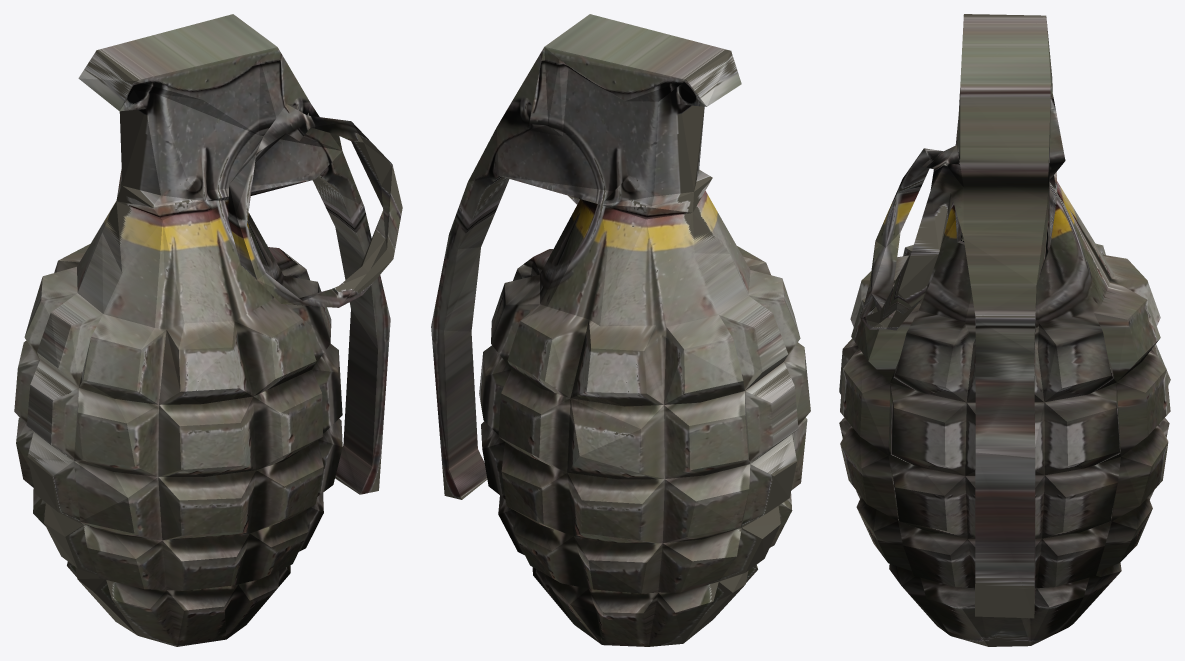
The model's file is frag.glb.
The picture shows the model from 3 angles, left to right: view 1: azimuth 30°, elevation 25°; view 2: azimuth 150°, elevation 25°; view 3: azimuth 270°, elevation 25°; orthographic projection.
Visible parts, largest first — view 1: Mesh_0; view 2: Mesh_0; view 3: Mesh_0.
Boxes of the visible parts, x1,y1,x2,y2 form: Mesh_0: (14, 14, 402, 646); Mesh_0: (431, 14, 810, 646); Mesh_0: (839, 14, 1170, 646).
Size of the model in its own units: 0.0558 by 0.09 by 0.0471.
1 material, 1 textured.
